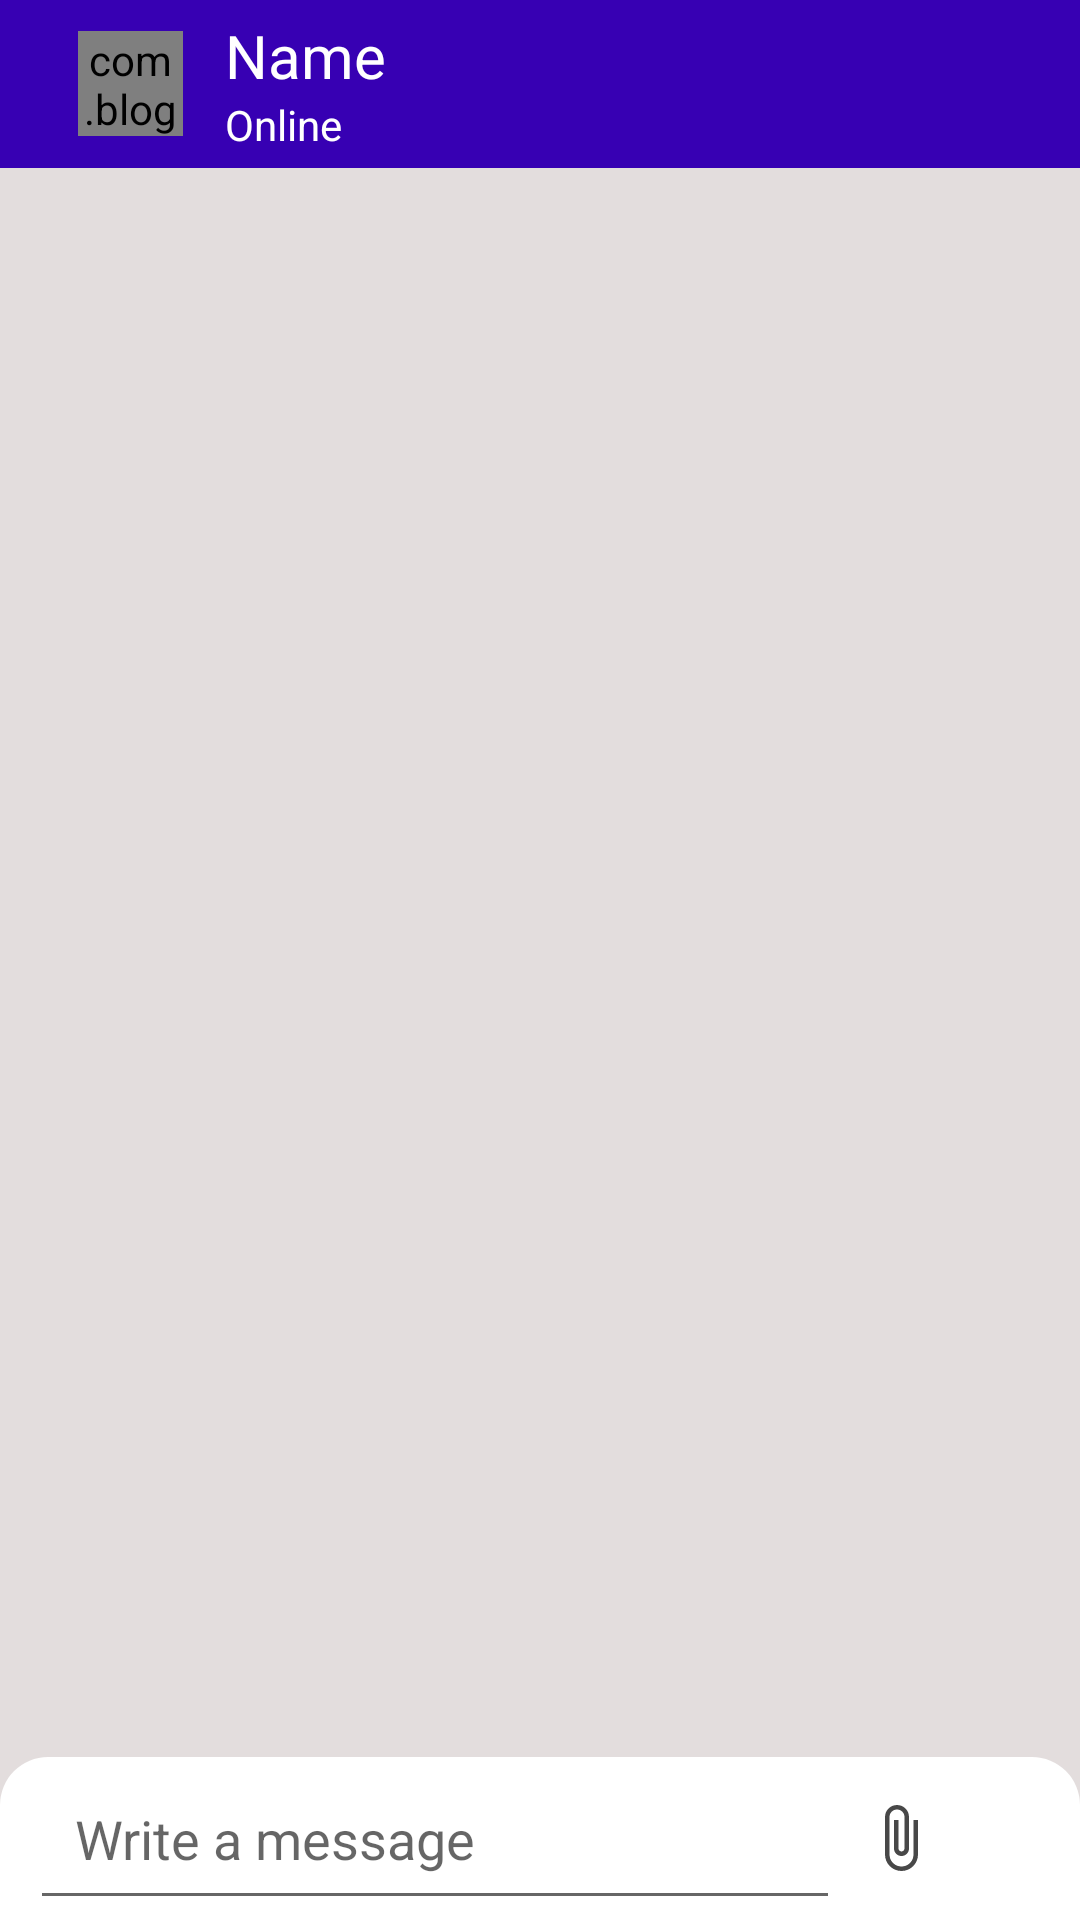

Locate icon controls on the screen. Image size 1080 × 1920, boxes as [left=x1, top=y1, right=x2, bottom=y2].
attach: [left=885, top=1805, right=918, bottom=1871]
